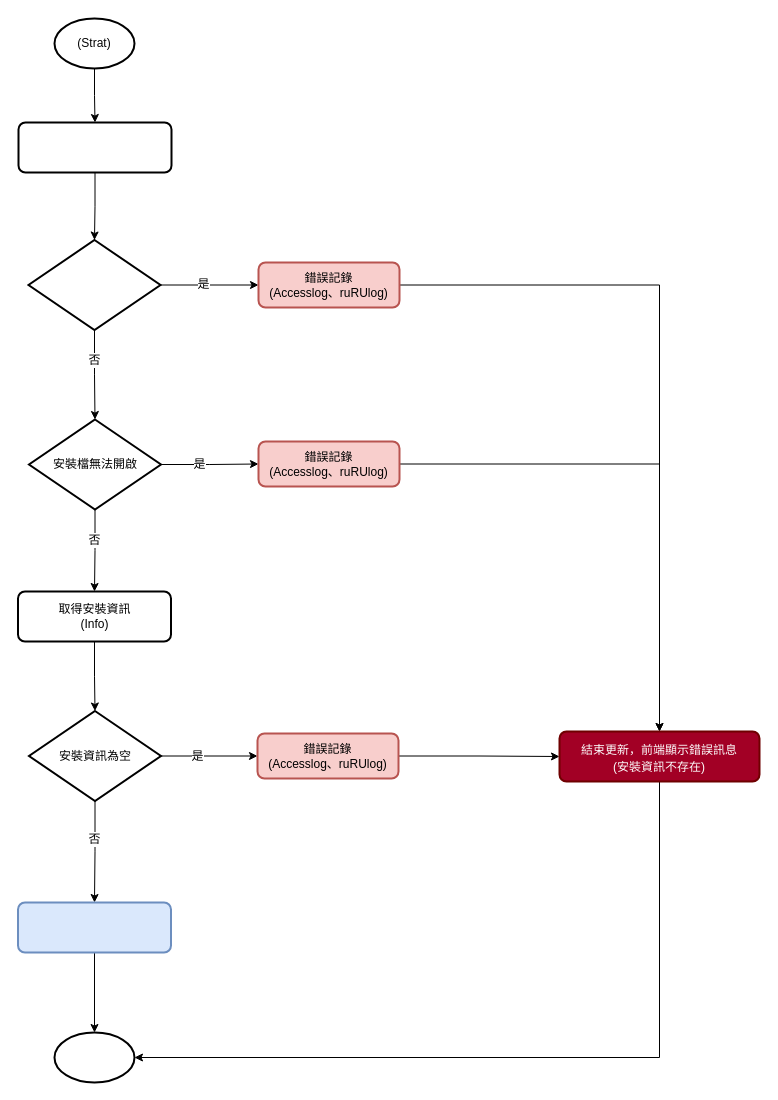
Image size: 778x1100. Some labels were removed from this diagram. Each missing label, with the centre of its shape:
(End): (x=94, y=1057)
依檔案路徑 取得系統更新的MDB檔案: (x=94, y=147)
安裝檔不存在: (x=94, y=284)
處理 Object Content: (x=94, y=927)
